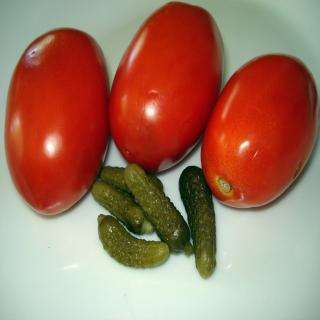tomato: (4, 27, 110, 216), (107, 1, 223, 172), (199, 56, 318, 215)
